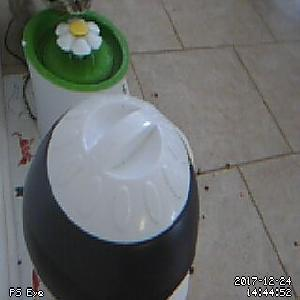cat: (6, 1, 94, 32)
fountain: (21, 8, 130, 93)
